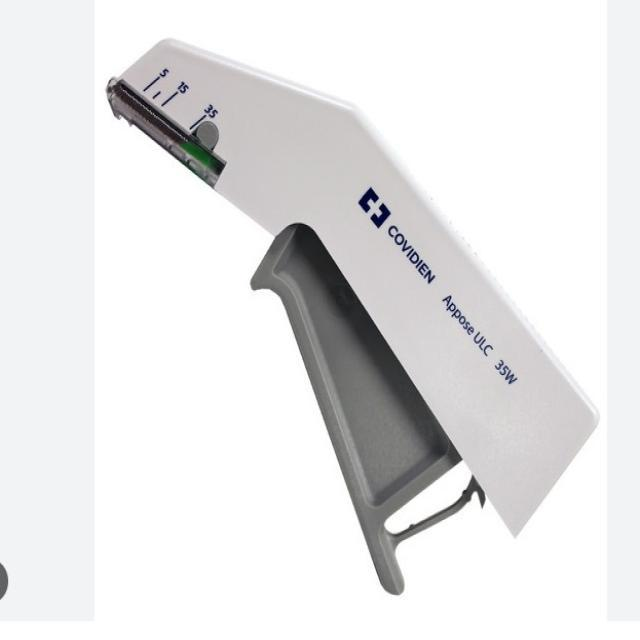Skin Stapler: (99, 32, 599, 600)
